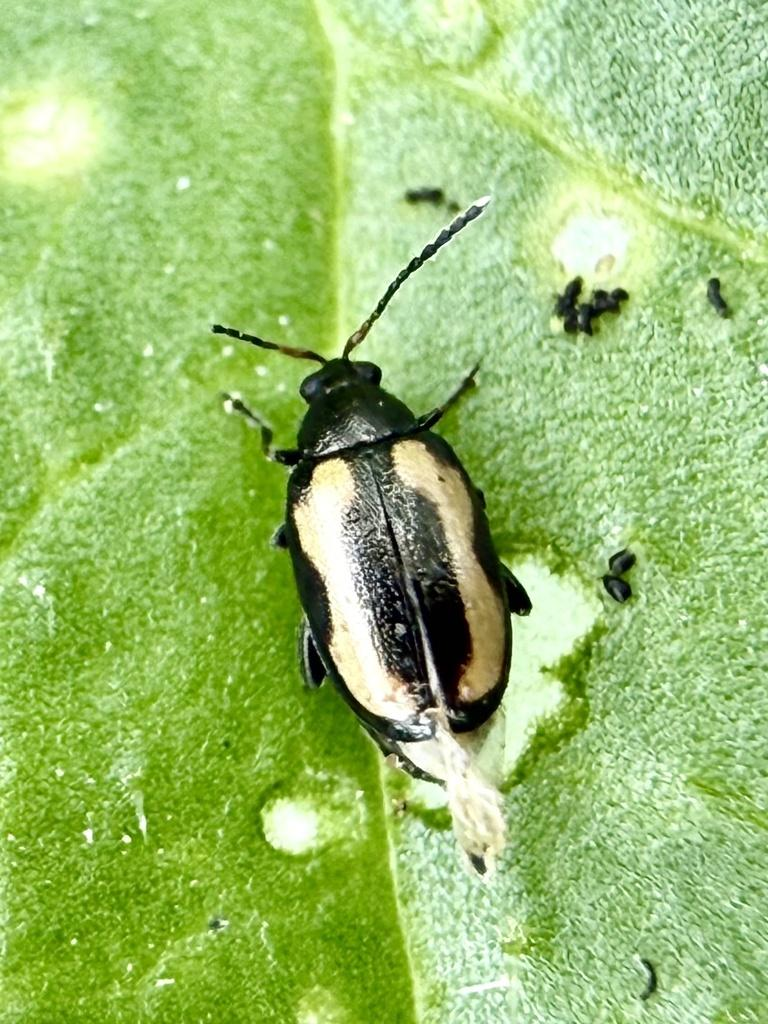flea_beetle: (122, 169, 659, 900)
